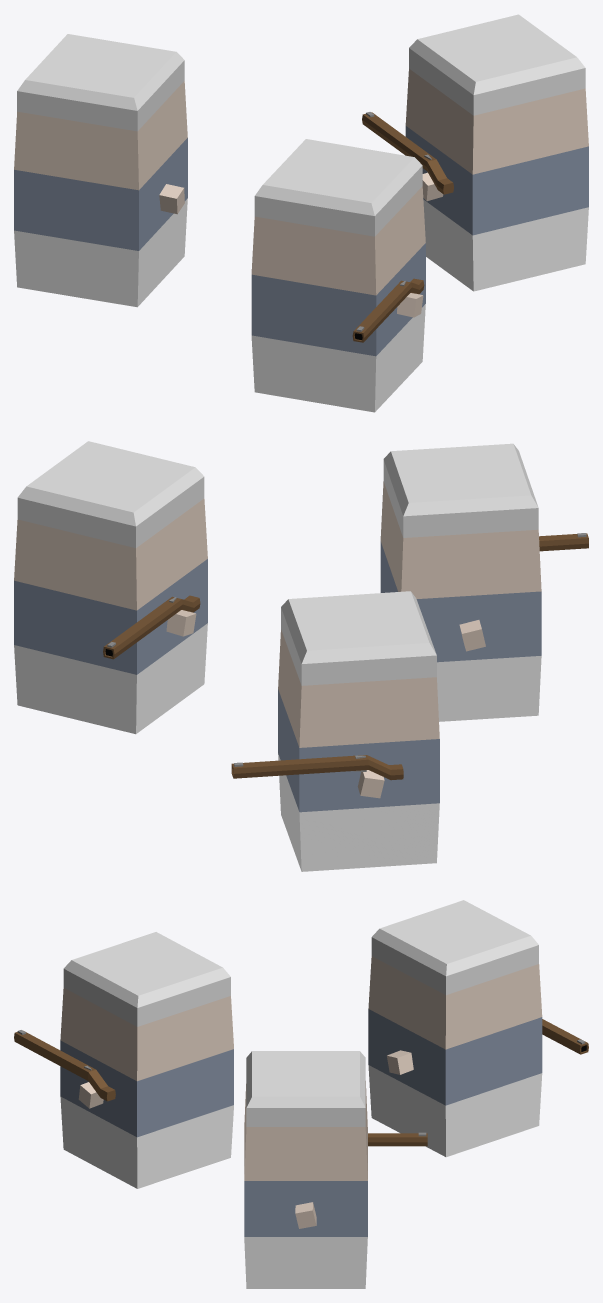
Rendered from presiaRiflemen.gltf.
The picture shows the model from 3 angles, top to bottom: view 1: azimuth 30°, elevation 25°; view 2: azimuth 150°, elevation 25°; view 3: azimuth 270°, elevation 25°; orthographic projection. The views are drawn at different scales.
Visible parts, largest first — view 1: Cube.009, Cube, Cube.014, Cube.001, Cube.013, Cube.008, Cube.002, Cube.012, Cube.005; view 2: Cube, Cube.009, Cube.014, Cube.001, Cube.008, Cube.013, Cube.007, Cube.002, Cube.012, Cube.003, Cube.010, Cube.006; view 3: Cube.009, Cube.014, Cube, Cube.013, Cube.008, Cube.001, Cube.012, Cube.002, Cube.007, Cube.005.
Boxes of the visible parts, x1=… form: Cube.009: x1=14, y1=81, x2=187, y2=307; Cube: x1=405, y1=68, x2=588, y2=291; Cube.014: x1=251, y1=186, x2=425, y2=412; Cube.001: x1=409, y1=14, x2=585, y2=115; Cube.013: x1=254, y1=139, x2=422, y2=236; Cube.008: x1=17, y1=34, x2=184, y2=131; Cube.002: x1=362, y1=112, x2=453, y2=194; Cube.012: x1=352, y1=278, x2=424, y2=342; Cube.005: x1=159, y1=184, x2=184, y2=214; Cube: x1=14, y1=498, x2=207, y2=734; Cube.009: x1=278, y1=629, x2=439, y2=871; Cube.014: x1=380, y1=481, x2=541, y2=721; Cube.001: x1=17, y1=441, x2=204, y2=548; Cube.008: x1=281, y1=591, x2=436, y2=685; Cube.013: x1=383, y1=443, x2=538, y2=537; Cube.007: x1=231, y1=755, x2=403, y2=780; Cube.002: x1=103, y1=595, x2=200, y2=659; Cube.012: x1=539, y1=533, x2=588, y2=551; Cube.003: x1=166, y1=610, x2=196, y2=636; Cube.010: x1=459, y1=620, x2=485, y2=651; Cube.006: x1=357, y1=770, x2=384, y2=798; Cube.009: x1=368, y1=956, x2=542, y2=1157; Cube.014: x1=60, y1=988, x2=233, y2=1188; Cube: x1=244, y1=1081, x2=367, y2=1288; Cube.013: x1=63, y1=932, x2=230, y2=1026; Cube.008: x1=371, y1=900, x2=538, y2=995; Cube.001: x1=246, y1=1051, x2=365, y2=1126; Cube.012: x1=14, y1=1030, x2=115, y2=1101; Cube.002: x1=368, y1=1132, x2=427, y2=1146; Cube.007: x1=542, y1=1019, x2=588, y2=1054; Cube.005: x1=387, y1=1050, x2=413, y2=1074.
Bounding box in the file's own units: 8.43 × 3.52 × 9.65.
